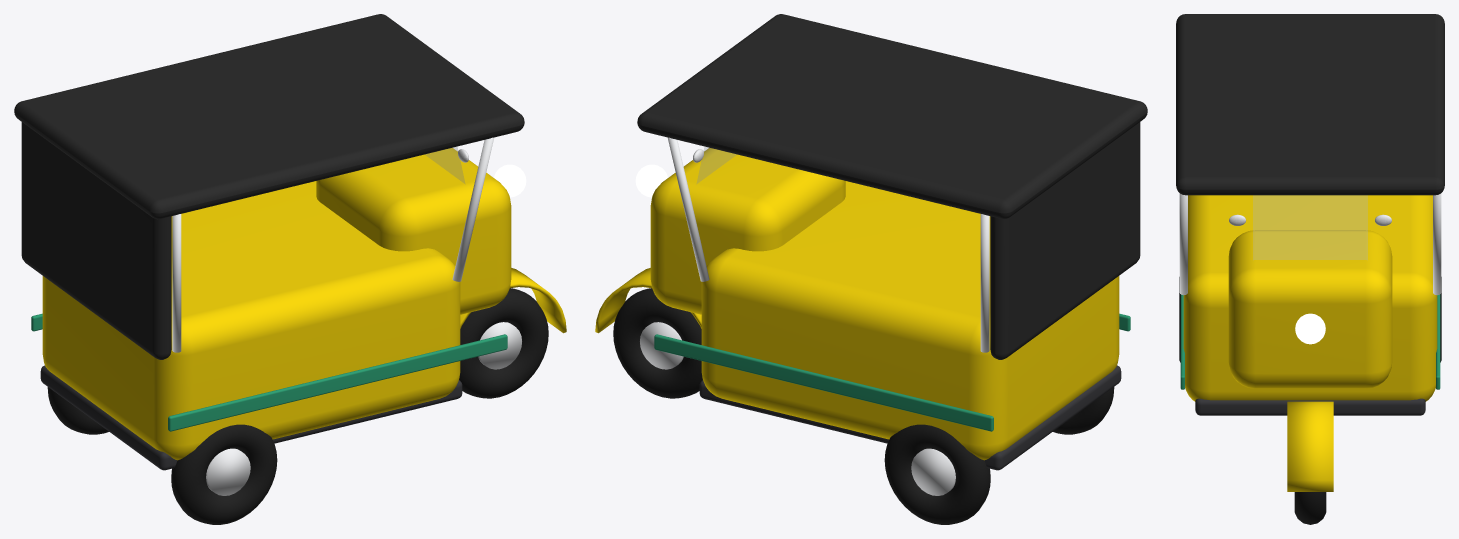
The model's file is auto_rickshaw.glb.
The picture shows the model from 3 angles, left to right: view 1: azimuth 30°, elevation 25°; view 2: azimuth 150°, elevation 25°; view 3: azimuth 270°, elevation 25°; orthographic projection. The views are drawn at different scales.
Visible parts, largest first — view 1: Body_Tub, Canopy_Roof, Canopy_Rear, Body_Nose, Wheel_RR_Tyre, Wheel_Front_Tyre, Stripe_R, Skirt, Wheel_RR_Hub, Frame_-0.7, FrameRear_-0.7, Mudguard (+4 smaller); view 2: Body_Tub, Canopy_Roof, Canopy_Rear, Body_Nose, Wheel_RL_Tyre, Wheel_Front_Tyre, Stripe_L, Skirt, Wheel_RL_Hub, Frame_+0.7, FrameRear_+0.7, Mudguard (+4 smaller); view 3: Canopy_Roof, Body_Tub, Body_Nose, Windscreen, Mudguard, Skirt, Wheel_Front_Tyre, Frame_+0.7, Frame_-0.7, Headlamp, Stripe_L, Stripe_R.
Part boxes in pixels (<box>): Body_Tub: <box>42,181,460,460</box>; Canopy_Roof: <box>14,14,524,219</box>; Canopy_Rear: <box>21,122,171,359</box>; Body_Nose: <box>316,147,511,314</box>; Wheel_RR_Tyre: <box>171,424,277,524</box>; Wheel_Front_Tyre: <box>459,288,548,398</box>; Stripe_R: <box>168,334,507,431</box>; Skirt: <box>40,365,462,470</box>; Wheel_RR_Hub: <box>206,448,250,495</box>; Frame_-0.7: <box>452,137,493,281</box>; FrameRear_-0.7: <box>172,214,181,352</box>; Mudguard: <box>460,268,566,333</box>; Body_Tub: <box>701,181,1119,460</box>; Canopy_Roof: <box>637,14,1147,219</box>; Canopy_Rear: <box>990,122,1140,359</box>; Body_Nose: <box>650,147,845,314</box>; Wheel_RL_Tyre: <box>884,424,990,524</box>; Wheel_Front_Tyre: <box>613,288,702,398</box>; Stripe_L: <box>654,334,993,431</box>; Skirt: <box>699,365,1121,470</box>; Wheel_RL_Hub: <box>911,448,955,495</box>; Frame_+0.7: <box>668,137,709,281</box>; FrameRear_+0.7: <box>980,214,989,352</box>; Mudguard: <box>595,268,701,333</box>; Canopy_Roof: <box>1176,14,1444,195</box>; Body_Tub: <box>1183,195,1437,401</box>; Body_Nose: <box>1228,230,1392,388</box>; Windscreen: <box>1253,195,1367,259</box>; Mudguard: <box>1287,401,1333,491</box>; Skirt: <box>1195,398,1425,415</box>; Wheel_Front_Tyre: <box>1294,492,1326,524</box>; Frame_+0.7: <box>1433,193,1441,295</box>; Frame_-0.7: <box>1179,193,1187,295</box>; Headlamp: <box>1295,313,1325,344</box>; Stripe_L: <box>1436,294,1440,389</box>; Stripe_R: <box>1180,294,1184,389</box>.
Bounding box in the file's own units: 2.65 × 1.84 × 1.4.
